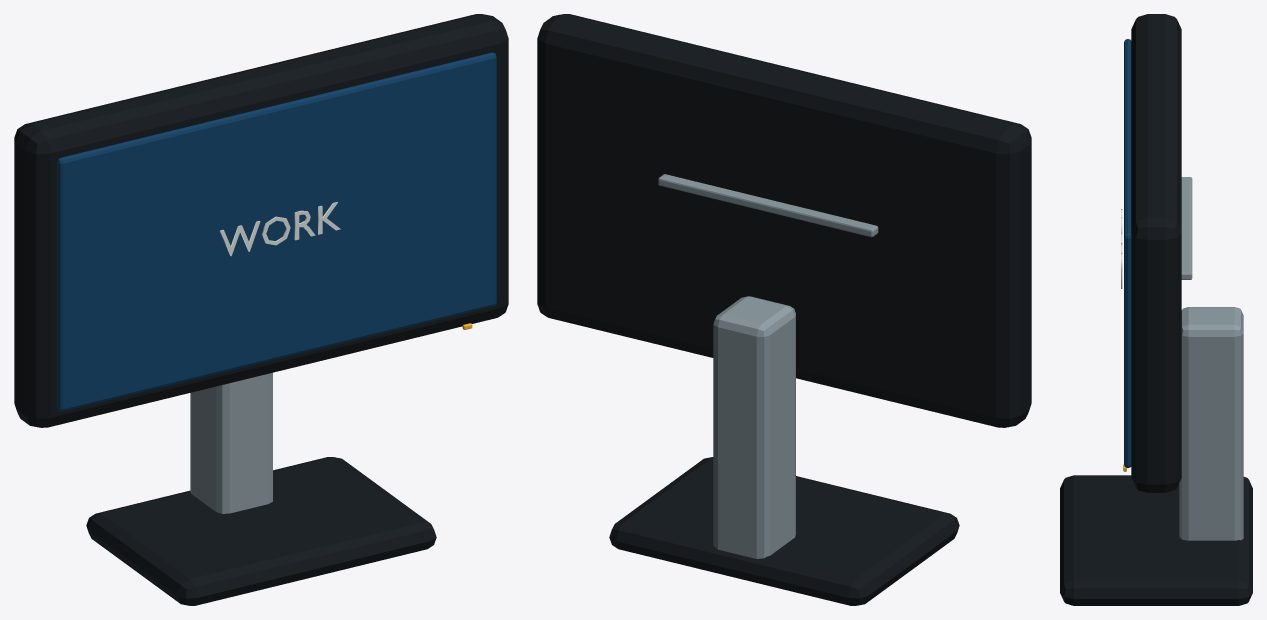
3 renders of one model, left to right at view 1: azimuth 30°, elevation 25°; view 2: azimuth 150°, elevation 25°; view 3: azimuth 270°, elevation 25°, orthographic. The views are drawn at different scales.
Parts seen in each view (by area): view 1: DISPLAY_Screen, DISPLAY_Housing, BASE_Foot, STAND_Column, SCREEN_Placeholder; view 2: DISPLAY_Housing, BASE_Foot, STAND_Column, VENT_Rear.001; view 3: DISPLAY_Housing, BASE_Foot, STAND_Column, DISPLAY_Screen, VENT_Rear.001, VENT_Rear.
Part boxes in pixels (bbox=[...]): DISPLAY_Screen: bbox=[57, 52, 496, 411]; DISPLAY_Housing: bbox=[14, 14, 508, 427]; BASE_Foot: bbox=[86, 457, 436, 605]; STAND_Column: bbox=[190, 372, 272, 513]; SCREEN_Placeholder: bbox=[220, 202, 340, 256]; DISPLAY_Housing: bbox=[537, 14, 1031, 427]; BASE_Foot: bbox=[609, 457, 959, 605]; STAND_Column: bbox=[713, 296, 795, 558]; VENT_Rear.001: bbox=[658, 175, 875, 237]; DISPLAY_Housing: bbox=[1131, 14, 1181, 492]; BASE_Foot: bbox=[1060, 475, 1252, 605]; STAND_Column: bbox=[1179, 307, 1243, 540]; DISPLAY_Screen: bbox=[1124, 39, 1131, 467]; VENT_Rear.001: bbox=[1186, 177, 1192, 279]; VENT_Rear: bbox=[1181, 177, 1185, 279].
Bounding box in the file's own units: 0.56 × 0.525 × 0.21.
